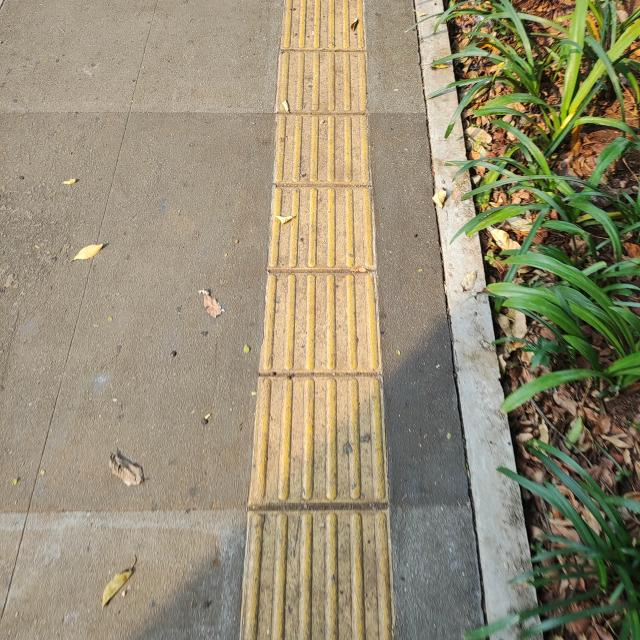lurus: (244, 4, 388, 640)
